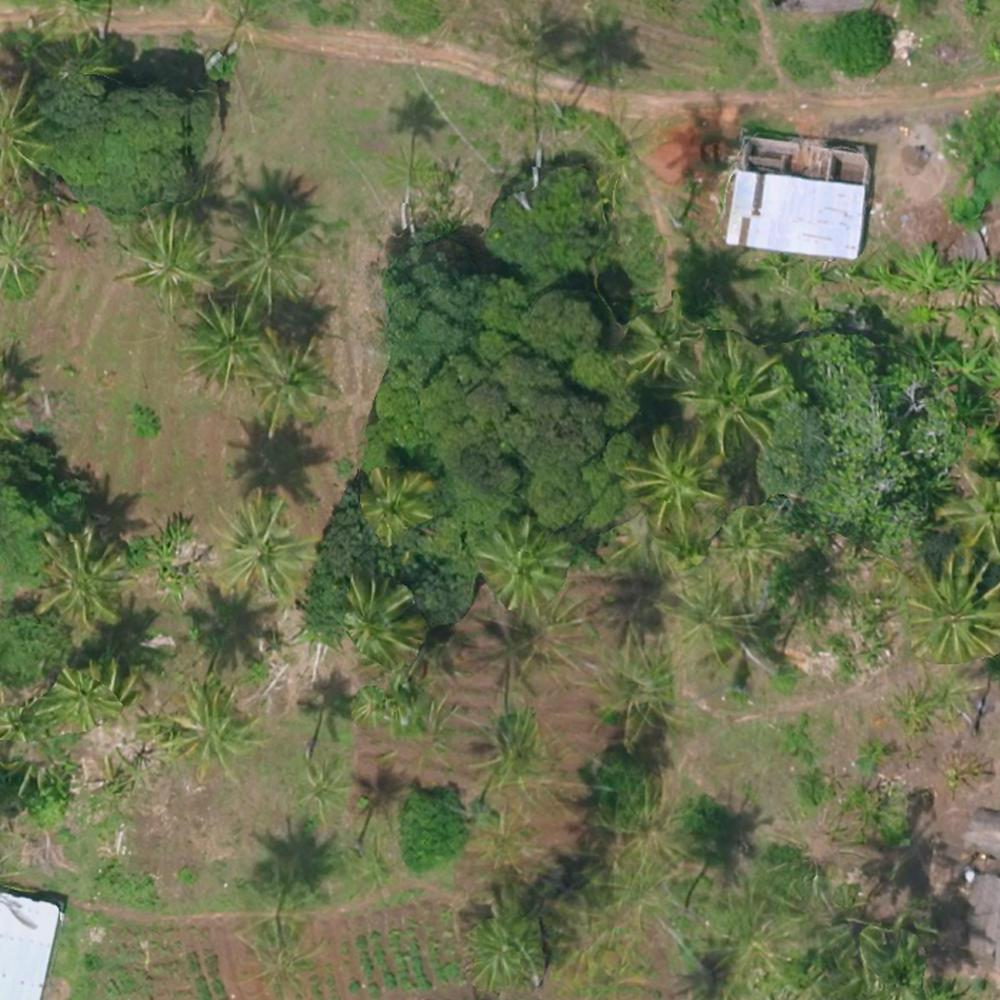Palm: (678, 343, 786, 444), (903, 550, 1000, 660), (621, 429, 728, 528), (214, 498, 316, 601), (220, 204, 318, 298), (41, 528, 128, 630), (120, 209, 215, 297), (160, 688, 255, 774), (482, 518, 574, 606), (243, 338, 338, 423), (338, 577, 425, 667), (181, 295, 267, 384), (36, 662, 126, 741), (357, 472, 438, 540)
